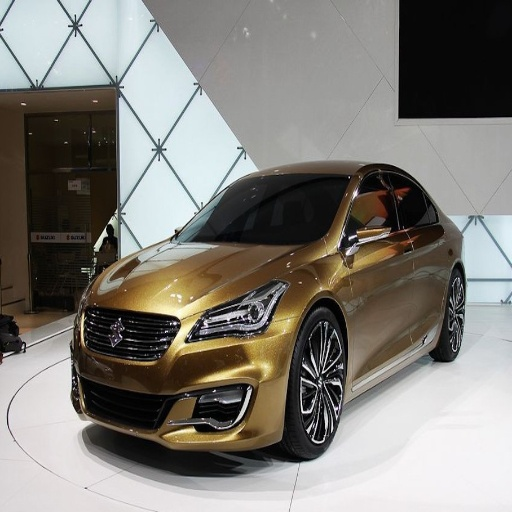front_bumper: (70, 311, 294, 449)
front_glass: (177, 176, 348, 242)
front_left_door: (341, 166, 413, 375)
